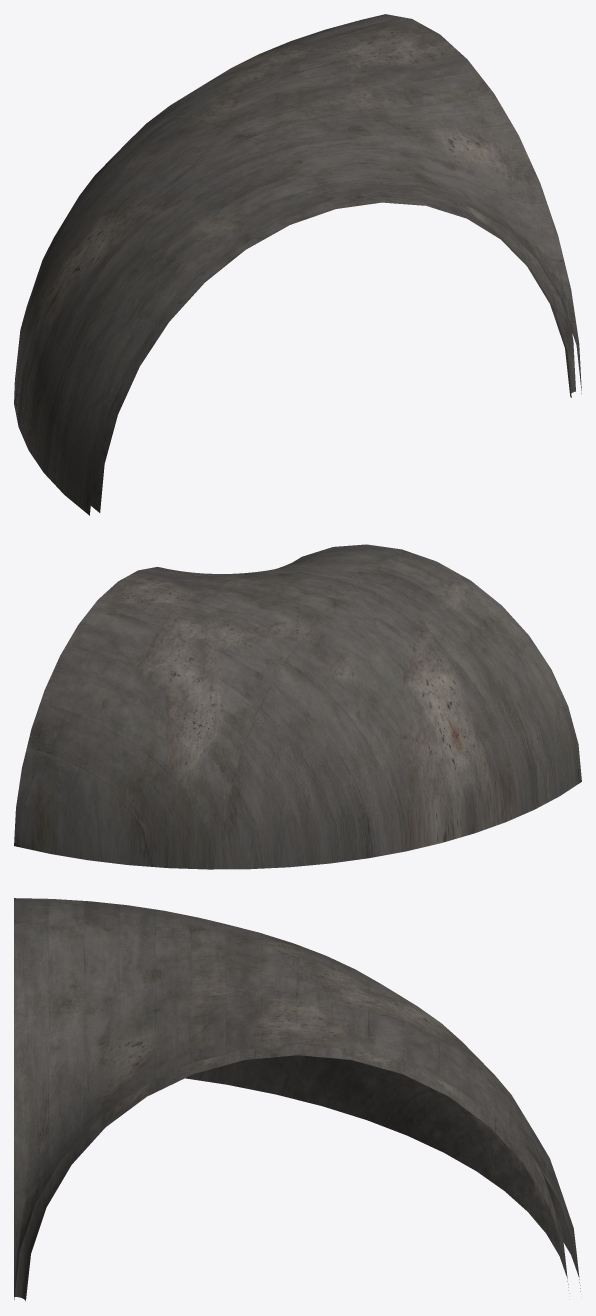
Rendered from msp_tunnel_ceiling_elbow.fbx.
The picture shows the model from 3 angles, top to bottom: view 1: azimuth 30°, elevation 25°; view 2: azimuth 150°, elevation 25°; view 3: azimuth 270°, elevation 25°; orthographic projection. The views are drawn at different scales.
Parts seen in each view (by area): view 1: msp_tunnel_ceiling_elbow; view 2: msp_tunnel_ceiling_elbow; view 3: msp_tunnel_ceiling_elbow.
Part boxes in pixels (x1,y1,x2,y2): msp_tunnel_ceiling_elbow: (14,14,581,515); msp_tunnel_ceiling_elbow: (14,544,581,869); msp_tunnel_ceiling_elbow: (14,898,580,1301).
Bounding box in the file's own units: 8 × 4 × 8.
